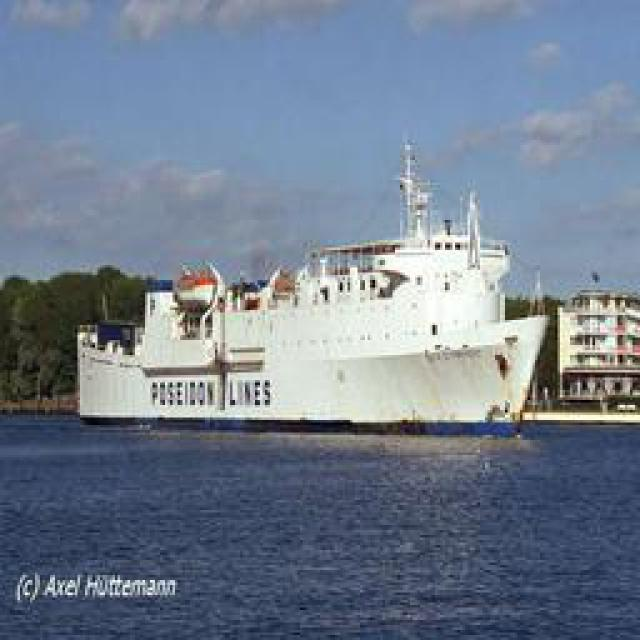Ship: (96, 116, 546, 431)
